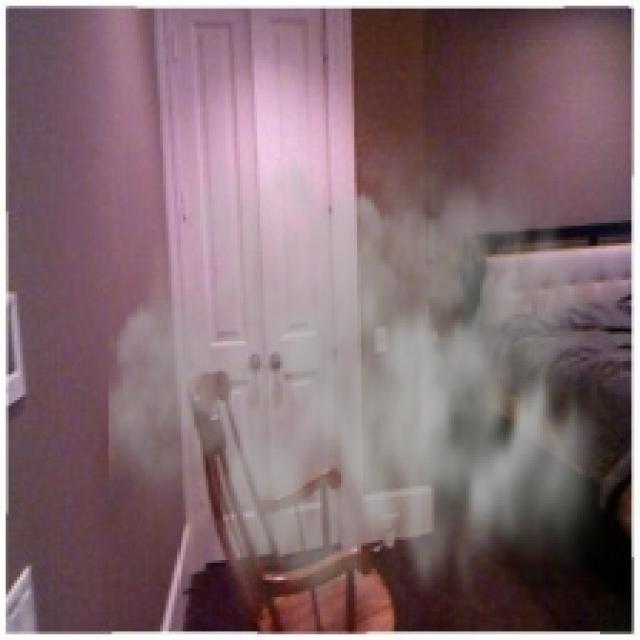Smoke: (108, 97, 634, 634)
